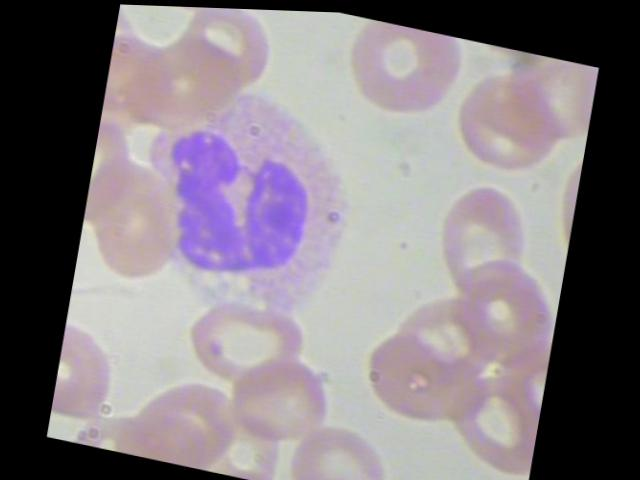Red Blood Cells: (325, 9, 470, 141), (424, 170, 537, 314), (222, 342, 338, 458), (284, 412, 398, 479), (344, 467, 441, 479)
White Blood Cells: (103, 60, 374, 357)
